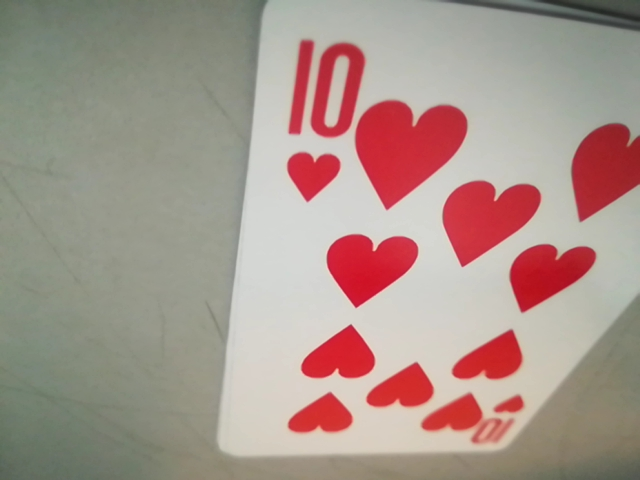hx 10: (285, 36, 364, 205)
